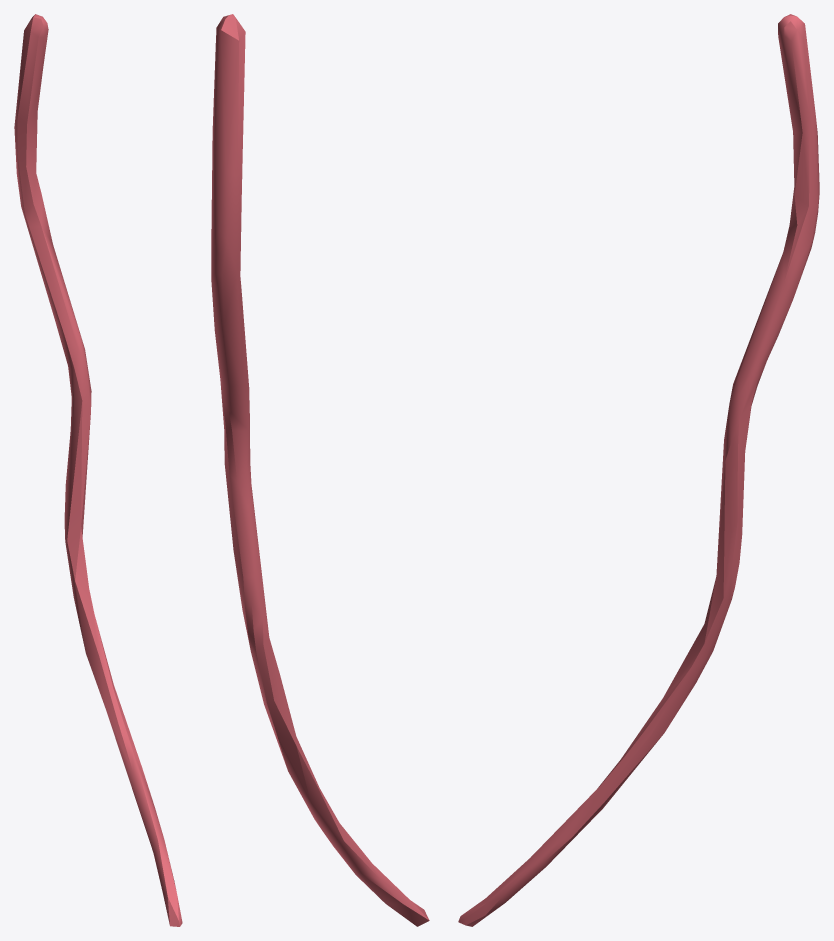
The model's file is fma14747_fj3519.glb.
The picture shows the model from 3 angles, left to right: view 1: azimuth 30°, elevation 25°; view 2: azimuth 150°, elevation 25°; view 3: azimuth 270°, elevation 25°; orthographic projection. The views are drawn at different scales.
Parts seen in each view (by area): view 1: FMA14747_FJ3519; view 2: FMA14747_FJ3519; view 3: FMA14747_FJ3519.
Boxes of the visible parts, left/top/right/bottom form: FMA14747_FJ3519: left=14, top=14, right=182, bottom=926; FMA14747_FJ3519: left=211, top=14, right=429, bottom=926; FMA14747_FJ3519: left=458, top=14, right=819, bottom=926.
Size of the model in its own units: 0.00337 by 0.0609 by 0.0218.
